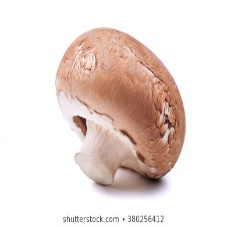mushroom: (54, 26, 185, 192)
